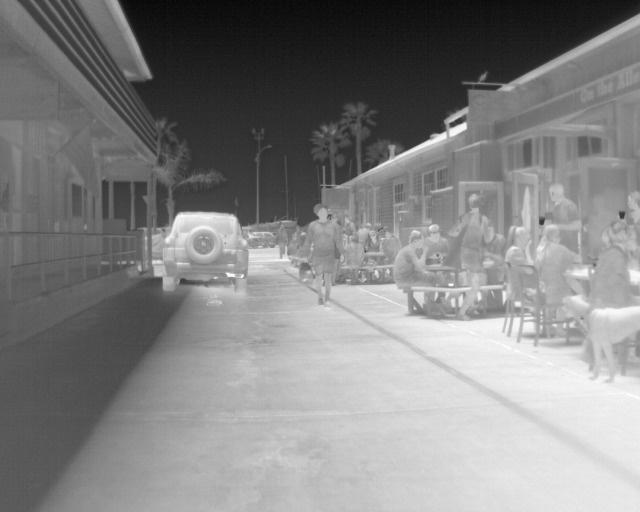bicycle: (161, 209, 249, 290), (249, 230, 276, 247)
empty: (533, 223, 582, 306), (588, 222, 635, 307), (304, 203, 343, 304), (453, 204, 495, 288), (396, 226, 446, 285), (501, 224, 528, 304), (542, 186, 582, 224), (419, 223, 449, 261), (380, 226, 401, 266), (344, 234, 366, 267), (622, 190, 639, 225), (276, 223, 289, 257)
